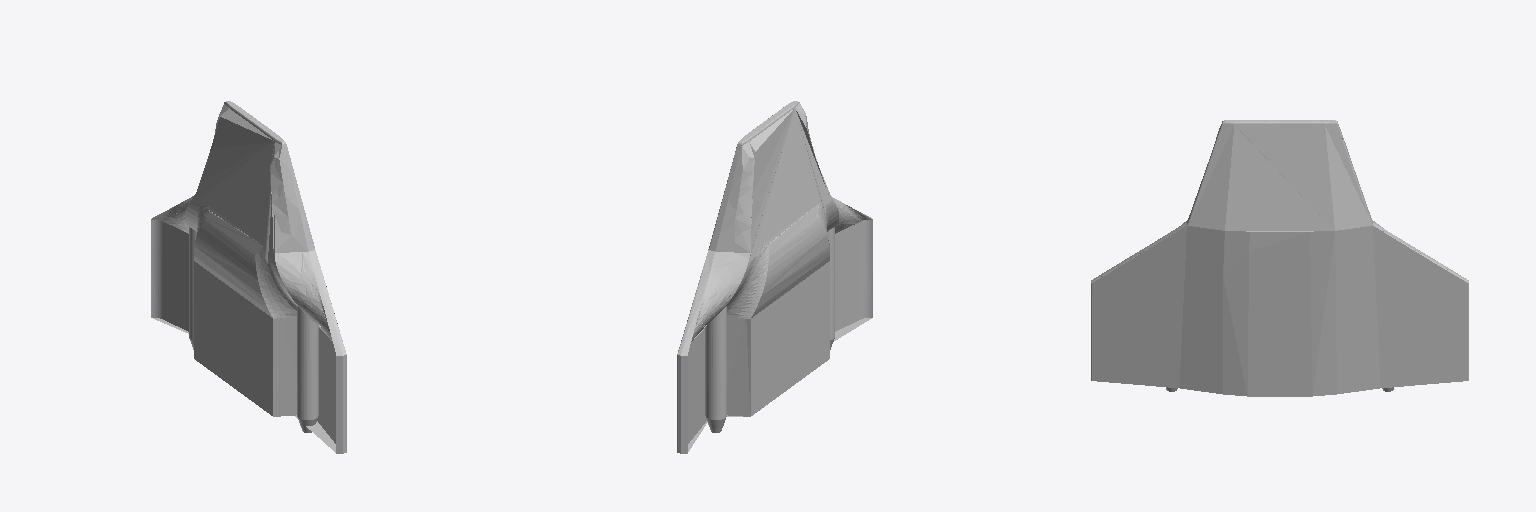
Rendered from Ship.obj.
3 views of the same model, side by side, from view 1: azimuth 30°, elevation 25°; view 2: azimuth 150°, elevation 25°; view 3: azimuth 270°, elevation 25° (orthographic).
Parts seen in each view (by area): view 1: Ship; view 2: Ship; view 3: Ship.
Part boxes in pixels (bbox=[...]): Ship: bbox=[151, 101, 346, 453]; Ship: bbox=[677, 101, 872, 453]; Ship: bbox=[1091, 120, 1468, 396].
Size of the model in its own units: 3.65 by 16.5 by 21.